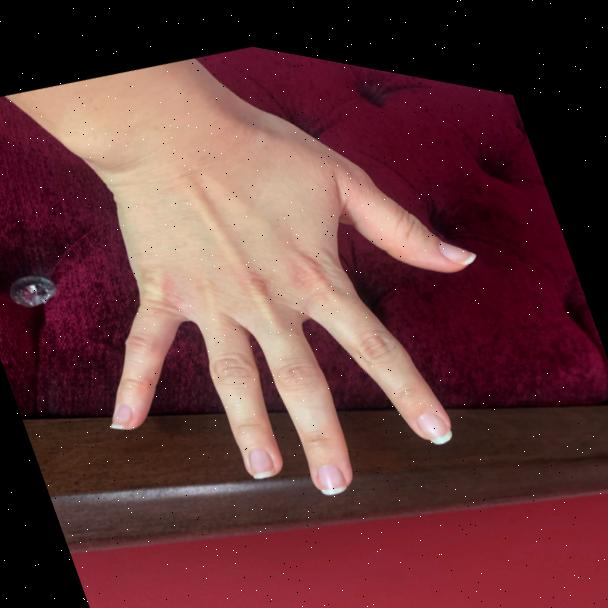five: (0, 0, 545, 592)
